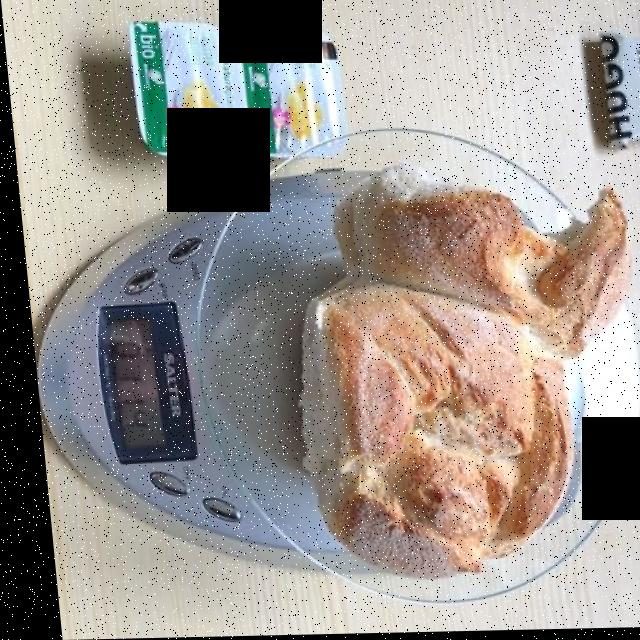bread-white: (291, 176, 624, 578), (291, 176, 624, 574)
butter: (124, 6, 349, 164), (122, 23, 337, 157)
